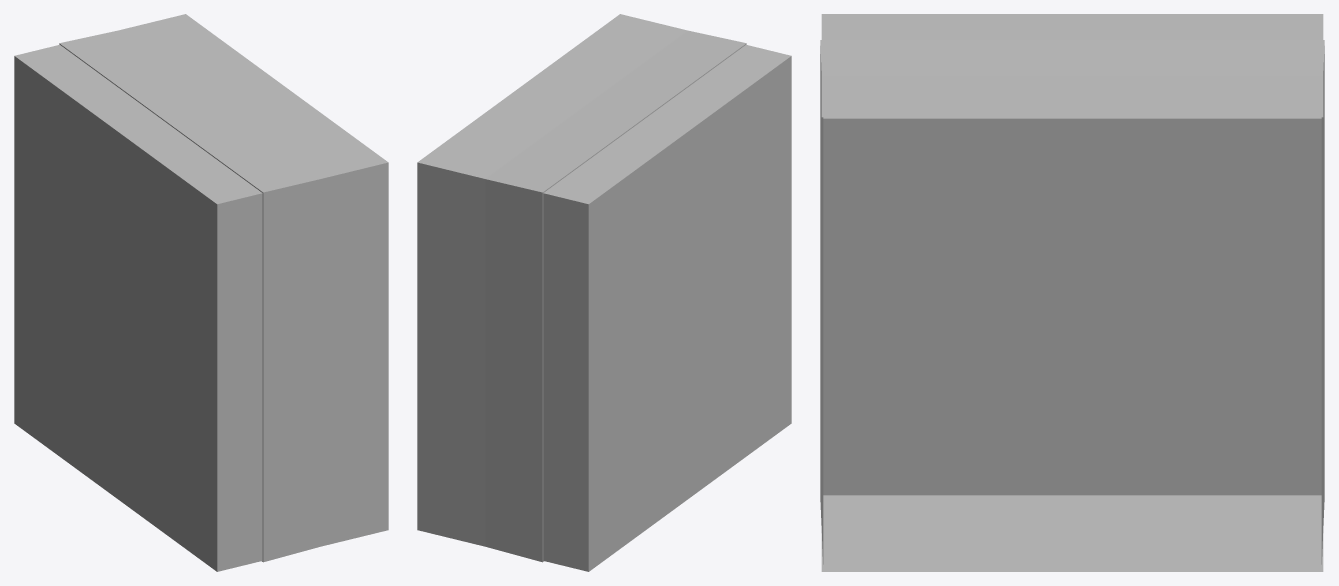
File: safe-back.fbx
3 views of the same model, side by side, from view 1: azimuth 30°, elevation 25°; view 2: azimuth 150°, elevation 25°; view 3: azimuth 270°, elevation 25° (orthographic). The views are drawn at different scales.
Visible parts, largest first — view 1: Cube; view 2: Cube; view 3: Cube.
Boxes of the visible parts, box(x1,y1,x2,y2) form: Cube: box(14, 14, 388, 571); Cube: box(417, 14, 791, 571); Cube: box(820, 14, 1324, 571).
Bounding box in the file's own units: 97.62 × 201 × 201.
